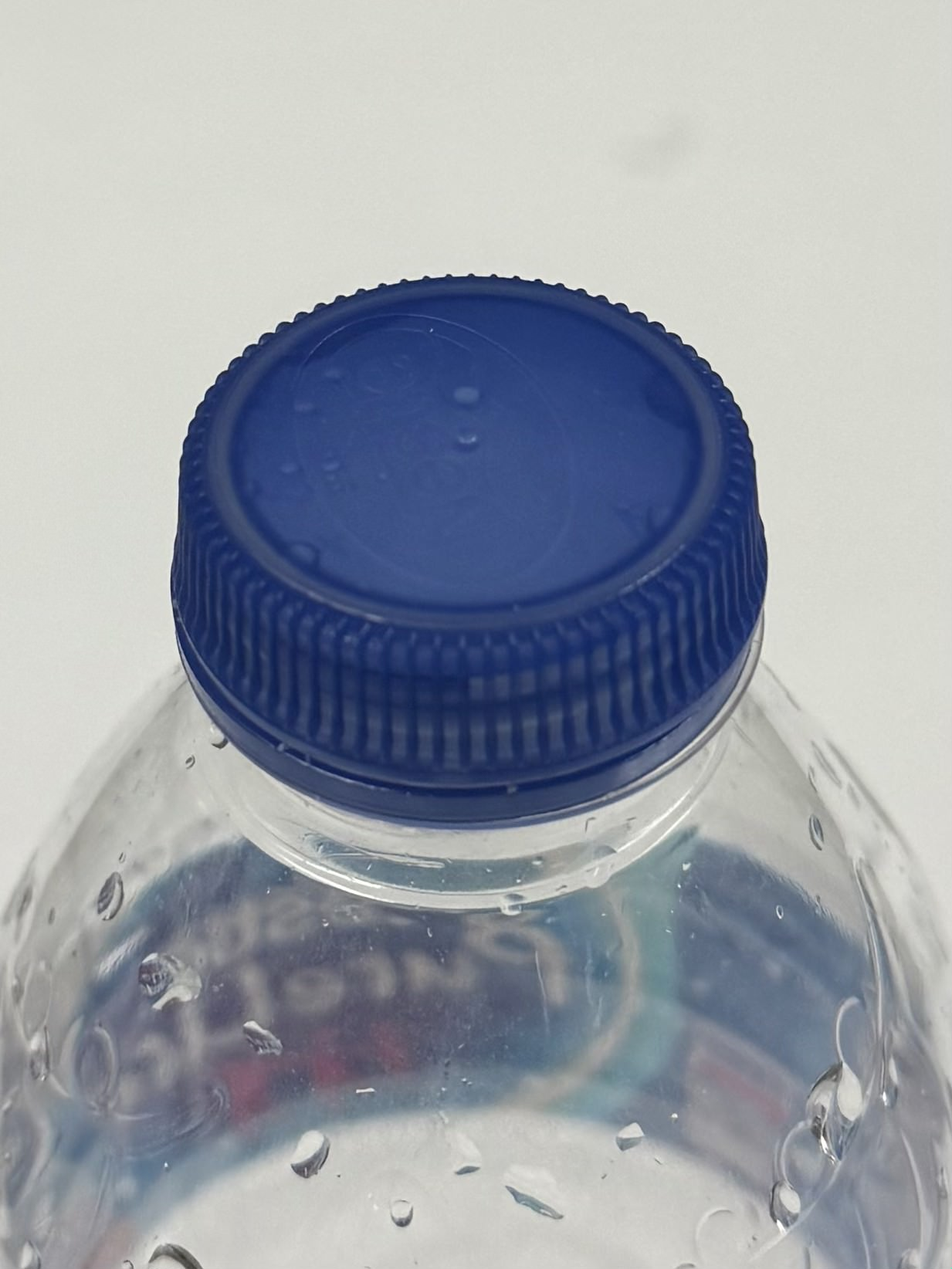closed_cap: (165, 266, 773, 828)
